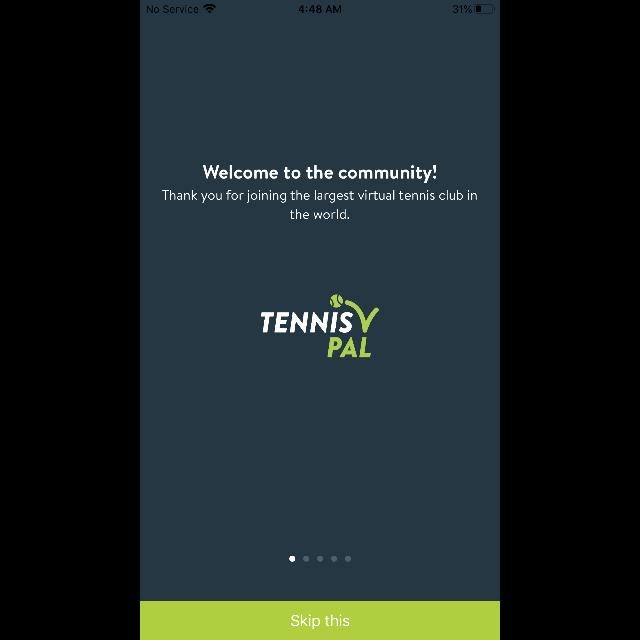image: (261, 295, 379, 357)
pageindicator: (289, 556, 351, 562)
text: (163, 190, 477, 220), (204, 165, 436, 183)
textbutton: (140, 600, 500, 640)
uppertaskbar: (140, 0, 500, 14)
